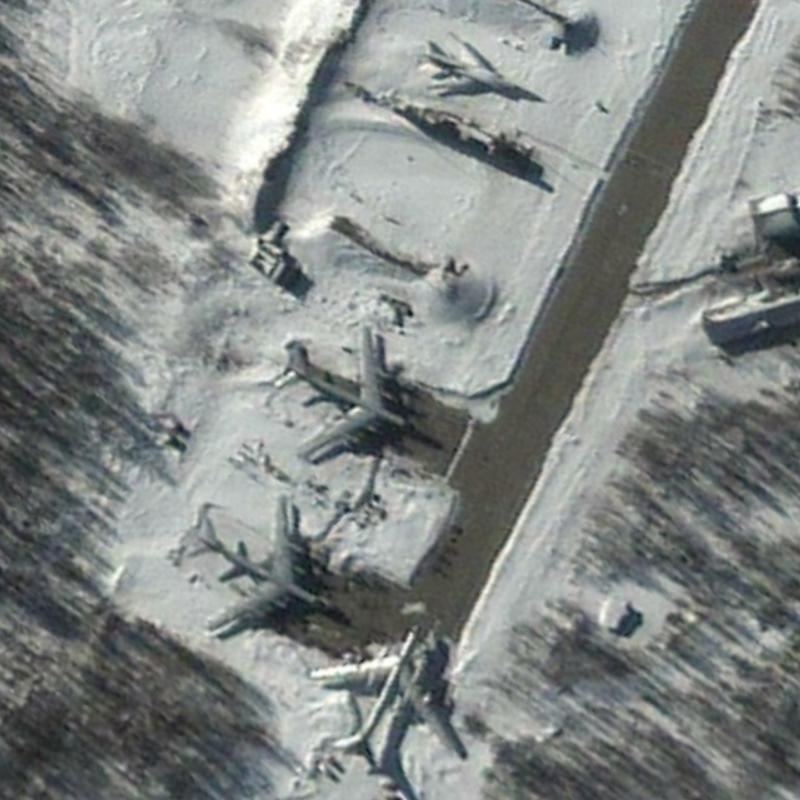A12: (411, 32, 548, 103)
A17: (306, 619, 468, 772), (182, 492, 332, 632), (273, 324, 415, 461)
